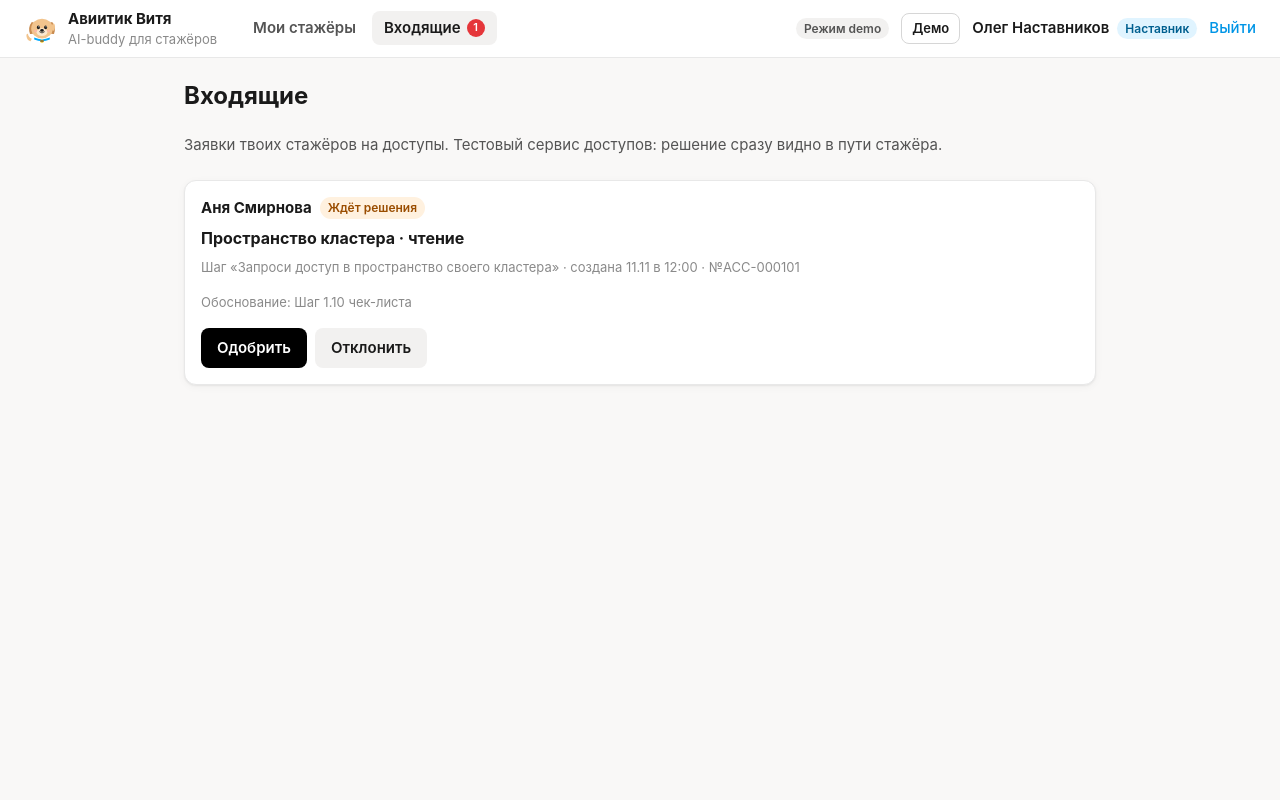
it: mentor inbox (wave 6, XF-05…XF-07) › error returns the card back
This screenshot has width=1280, height=800.
Click the button "Одобрить": (254,348) top-left (201, 328), bottom-right (307, 368)
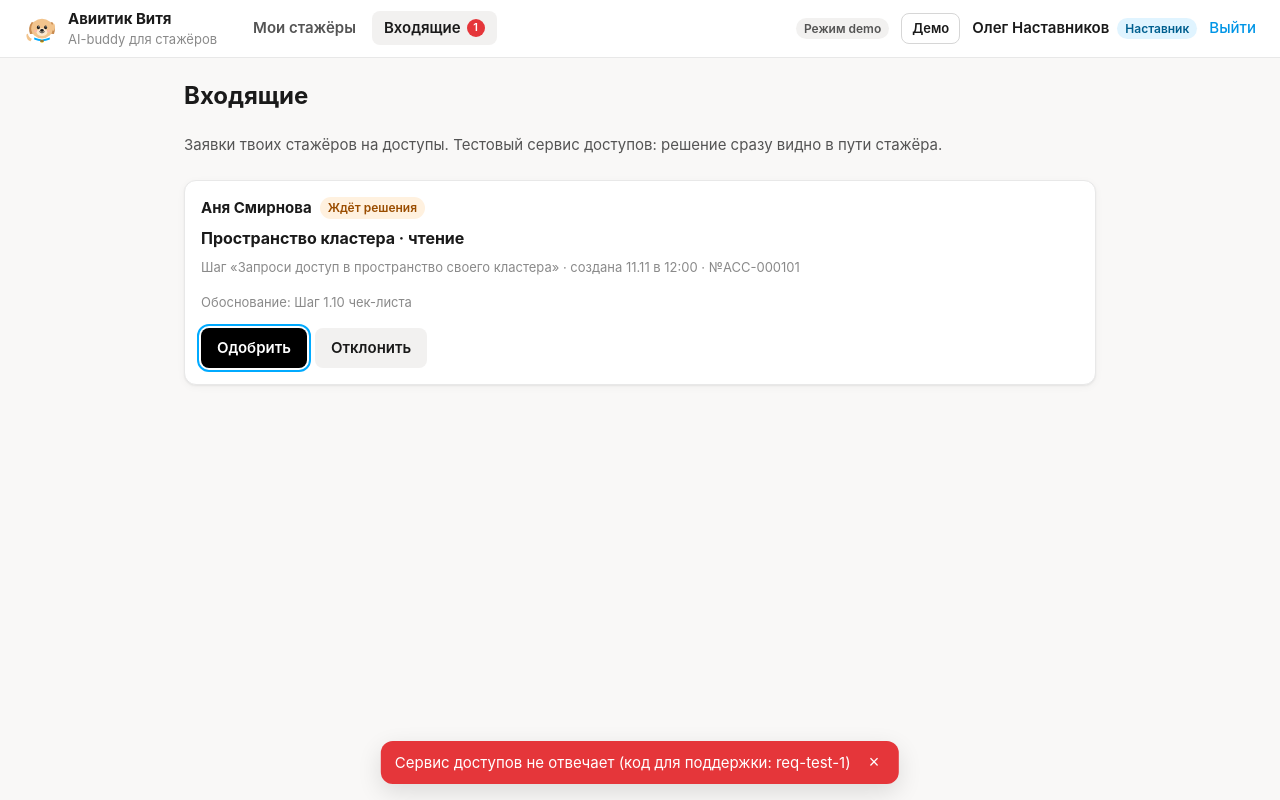
Expected: the list item with aria-label "Заявка ACC-000101" is shown, top-left (184, 180), bottom-right (1096, 384)
Expected: the text "Сервис доступов не отвечает (код для поддержки: req-test-1)" is shown, top-left (395, 752), bottom-right (851, 773)
